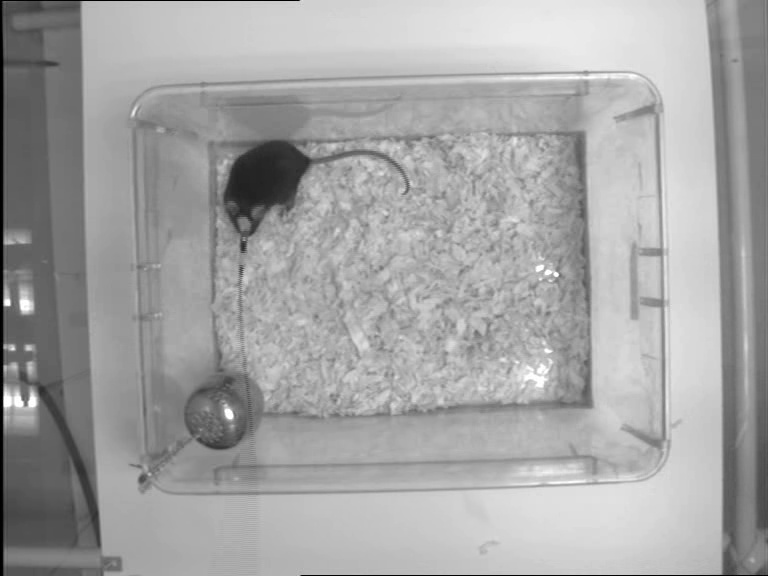mice: (223, 141, 412, 240)
